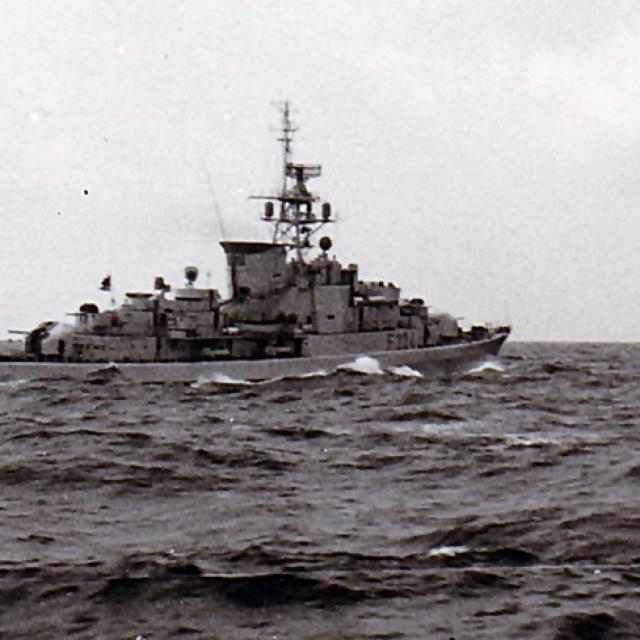Fragata: (1, 68, 518, 397)
